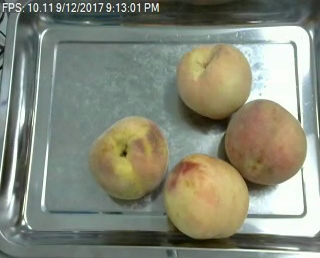Peach: (163, 152, 250, 240), (222, 98, 306, 186), (90, 114, 168, 200), (176, 43, 252, 118)
